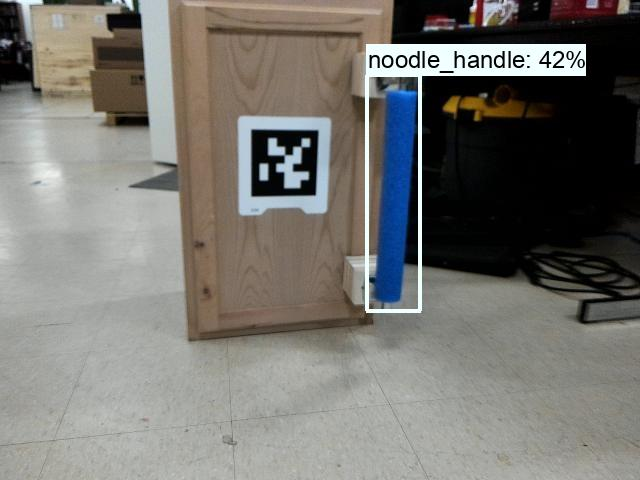noodle_handle: (366, 76, 429, 312)
